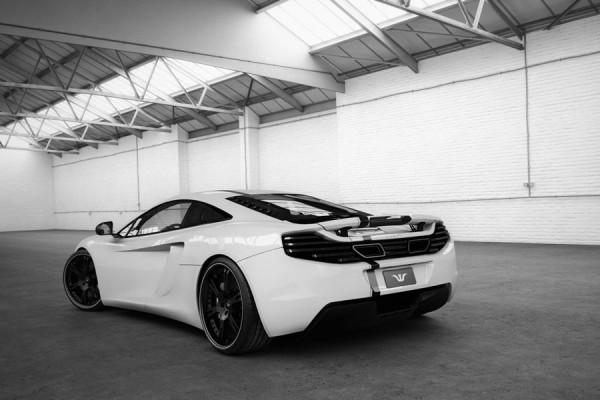car: (64, 189, 458, 357)
